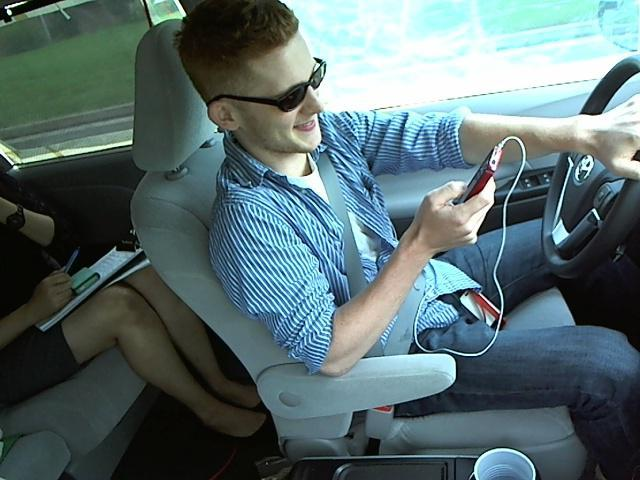PhoneUse: (441, 133, 508, 246)
